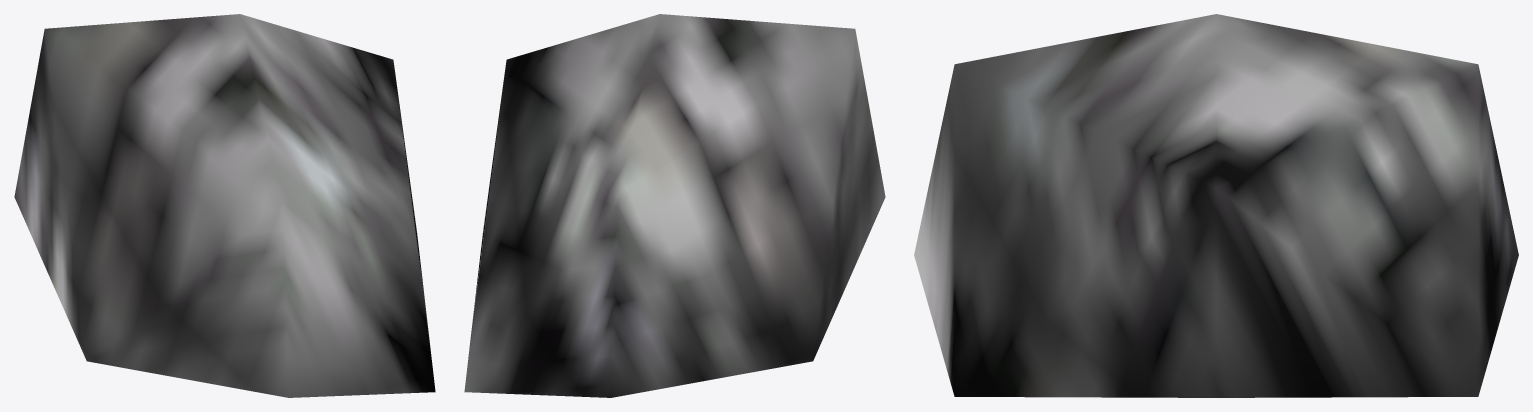
The model's file is Civilian - Civilian Building - Bridg D 06 - CBBridgD06.glb.
The picture shows the model from 3 angles, left to right: view 1: azimuth 30°, elevation 25°; view 2: azimuth 150°, elevation 25°; view 3: azimuth 270°, elevation 25°; orthographic projection. The views are drawn at different scales.
Parts seen in each view (by area): view 1: CBBRIDGD06; view 2: CBBRIDGD06; view 3: CBBRIDGD06.
Boxes of the visible parts, x1,y1,x2,y2 form: CBBRIDGD06: (14, 14, 435, 397); CBBRIDGD06: (464, 14, 885, 397); CBBRIDGD06: (914, 14, 1518, 397).
Bounding box in the file's own units: 8.46 × 7.59 × 12.17.
Materials: 1 (1 with a texture image).
